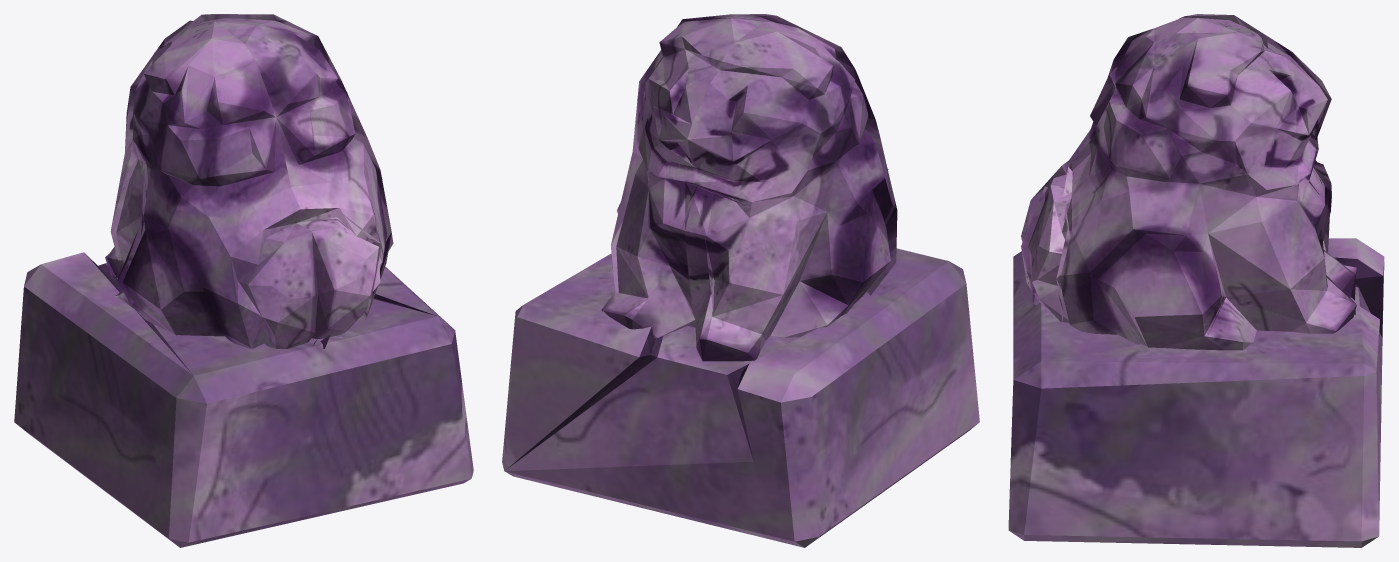
The model's file is entity48404.gltf.
3 renders of one model, left to right at view 1: azimuth 30°, elevation 25°; view 2: azimuth 150°, elevation 25°; view 3: azimuth 270°, elevation 25°, orthographic. The views are drawn at different scales.
Parts seen in each view (by area): view 1: node_Str_Ruins_02; view 2: node_Str_Ruins_02; view 3: node_Str_Ruins_02.
Part boxes in pixels (x1,y1,x2,y2): node_Str_Ruins_02: [14, 14, 473, 547]; node_Str_Ruins_02: [502, 14, 979, 547]; node_Str_Ruins_02: [1008, 14, 1384, 547].
Size of what is drawn, in the model's own units: 1.91 by 2.51 by 1.92.
